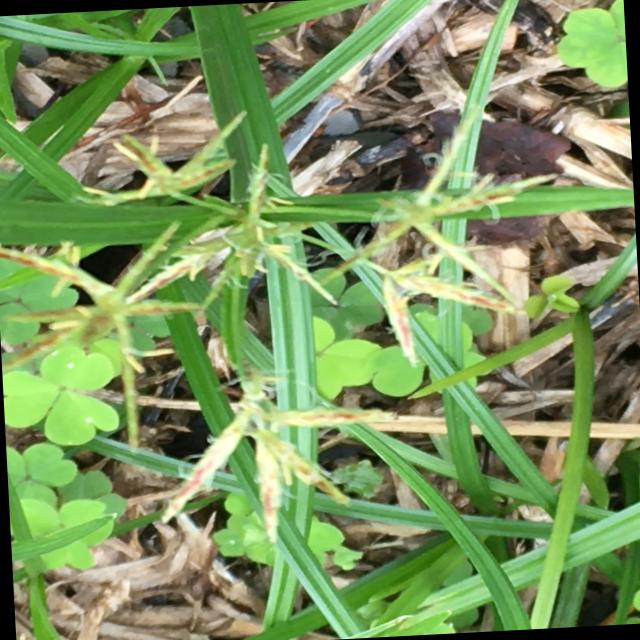cyperus: (0, 100, 579, 558)
